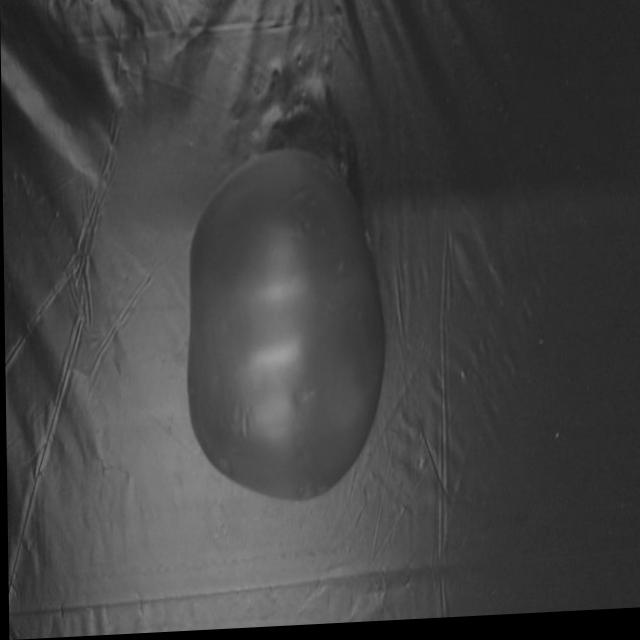kirmizi: (174, 115, 394, 517)
